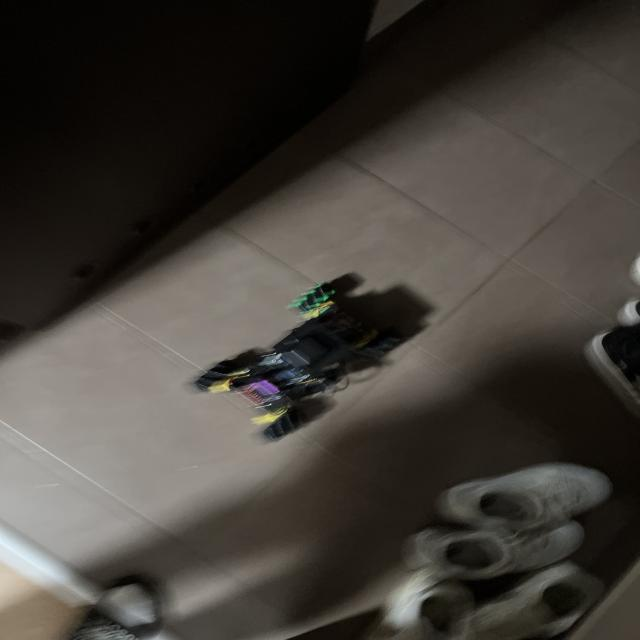robot: (194, 283, 404, 441)
